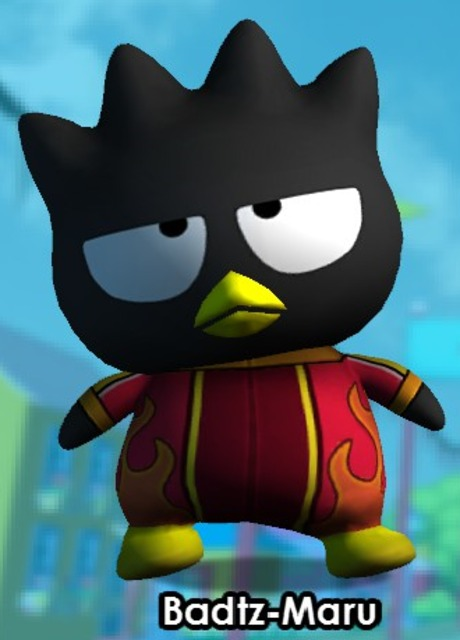batsumaru: (19, 18, 446, 583)
